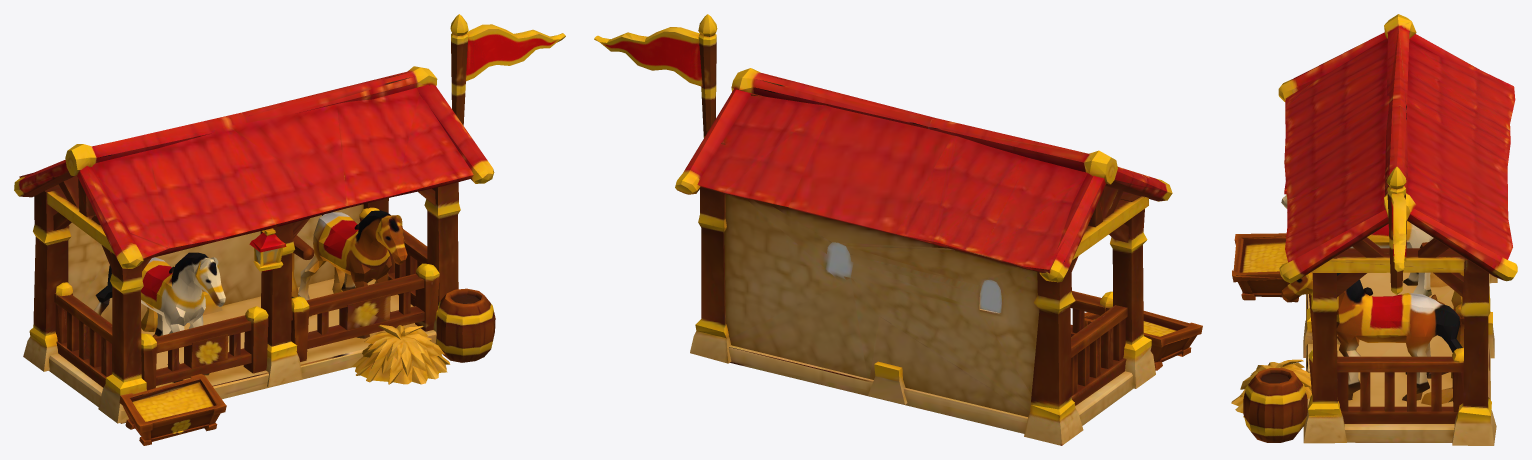
Rendered from horse_stables.glb.
3 renders of one model, left to right at view 1: azimuth 30°, elevation 25°; view 2: azimuth 150°, elevation 25°; view 3: azimuth 270°, elevation 25°, orthographic. The views are drawn at different scales.
Visible parts, largest first — view 1: mesh_000; view 2: mesh_000; view 3: mesh_000.
Boxes of the visible parts, x1=… form: mesh_000: x1=14, y1=14, x2=565, y2=445; mesh_000: x1=594, y1=14, x2=1202, y2=445; mesh_000: x1=1231, y1=14, x2=1517, y2=445.
Bounding box in the file's own units: 0.958 × 0.519 × 0.455.
Materials: 1 (1 with a texture image).
